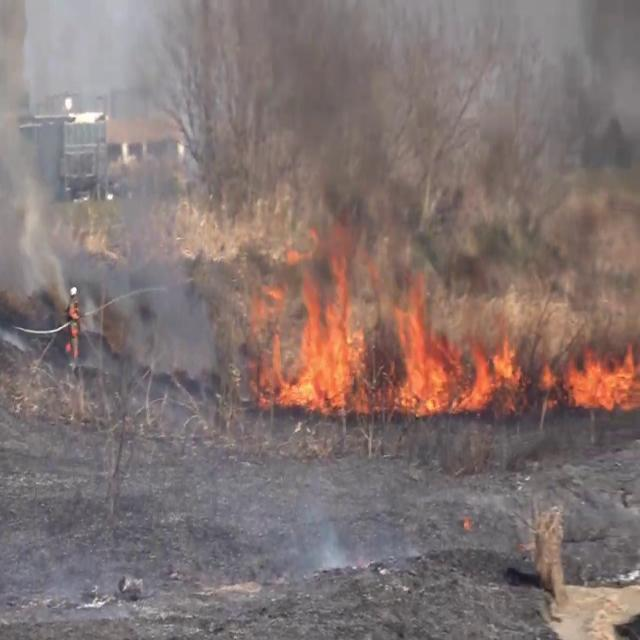Fire: (246, 225, 520, 424), (557, 336, 640, 419)
Smoke: (225, 6, 637, 234), (0, 1, 73, 322)
